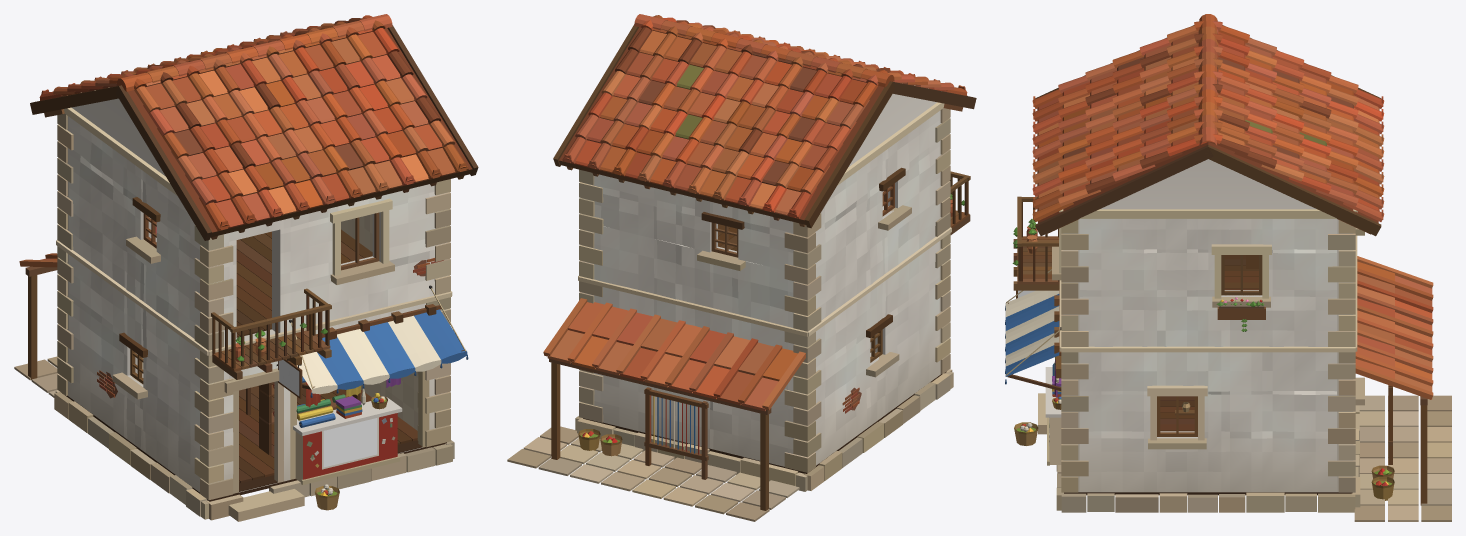
Rendered from artisan_0_2.glb.
3 views of the same model, side by side, from view 1: azimuth 30°, elevation 25°; view 2: azimuth 150°, elevation 25°; view 3: azimuth 270°, elevation 25° (orthographic). The views are drawn at different scales.
Visible parts, largest first — view 1: House, Walls, Rooms; view 2: House, Walls; view 3: House, Walls, Rooms.
Part boxes in pixels (box(x1,y1,x2,y2)): House: box(14, 14, 478, 521); Walls: box(67, 98, 447, 492); Rooms: box(142, 214, 418, 483); House: box(507, 14, 976, 521); Walls: box(582, 94, 941, 466); House: box(1005, 14, 1451, 521); Walls: box(1063, 159, 1352, 492); Rooms: box(1160, 255, 1258, 431).
Bounding box in the file's own units: 4.28 × 5.58 × 6.01.
Materials: 7 (7 with a texture image).
